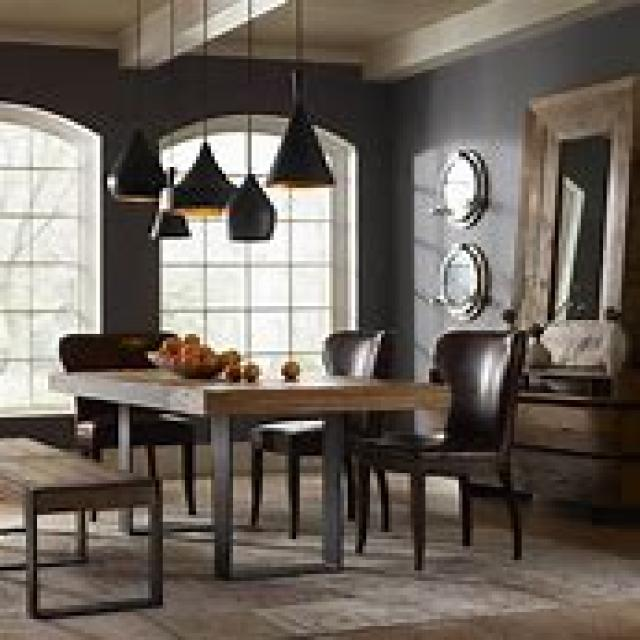chair: (351, 327, 529, 570), (248, 327, 385, 536), (56, 330, 196, 529)
table: (45, 362, 448, 577)
